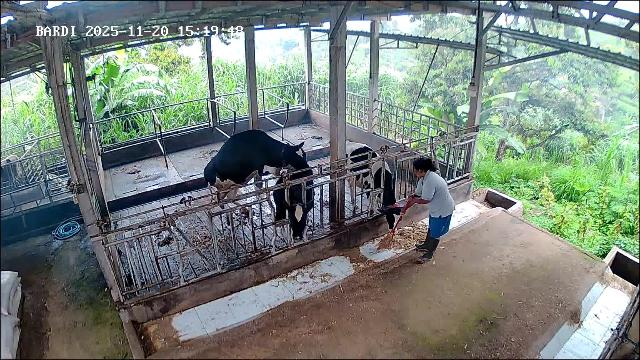mounting: (203, 130, 308, 230)
